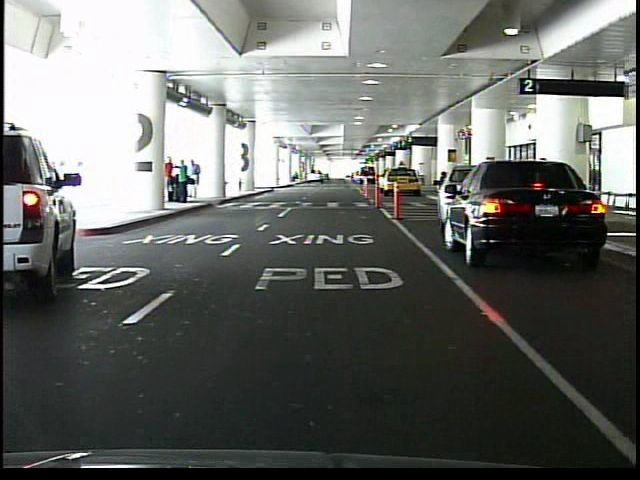person: (176, 160, 190, 204), (165, 155, 177, 204), (189, 159, 202, 200)
